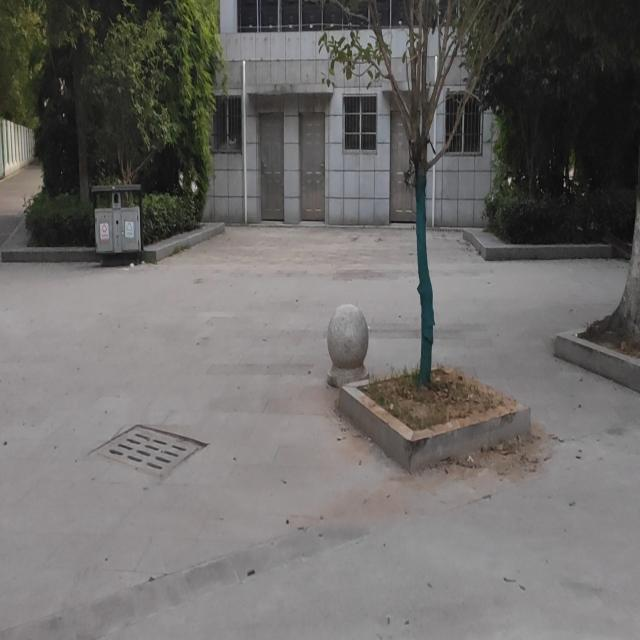ash bin: (89, 183, 143, 267)
spherical_roadblock: (326, 303, 370, 387)
